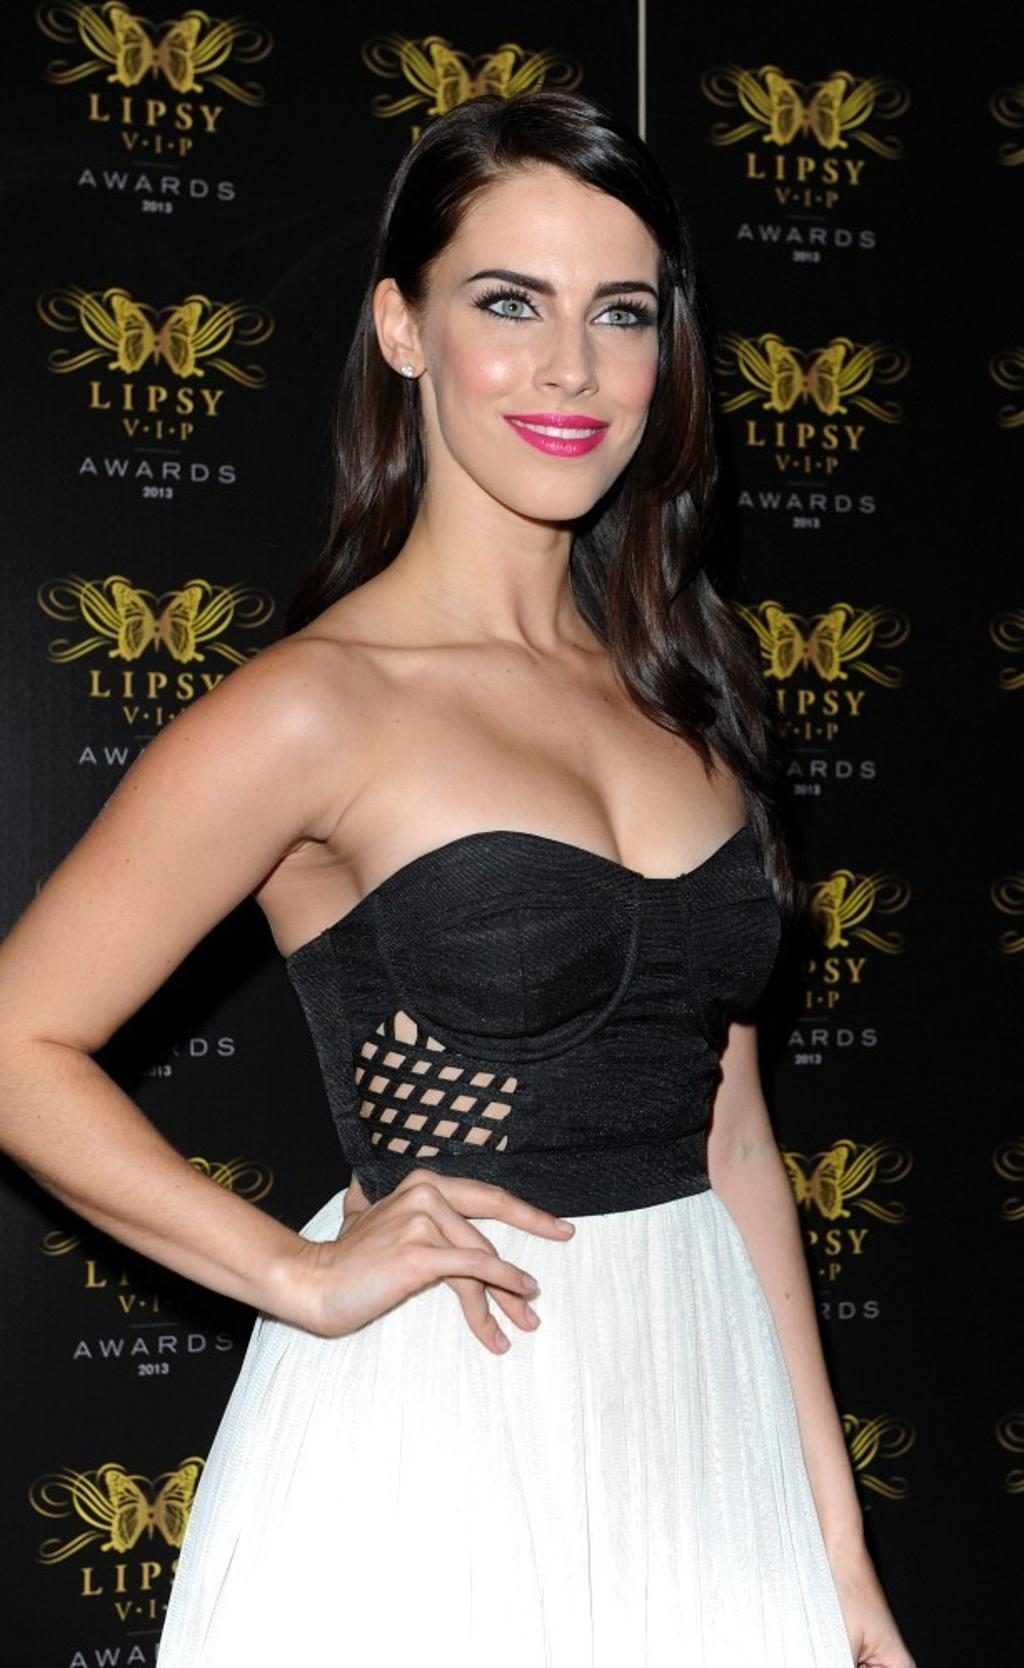face: (430, 163, 662, 522)
